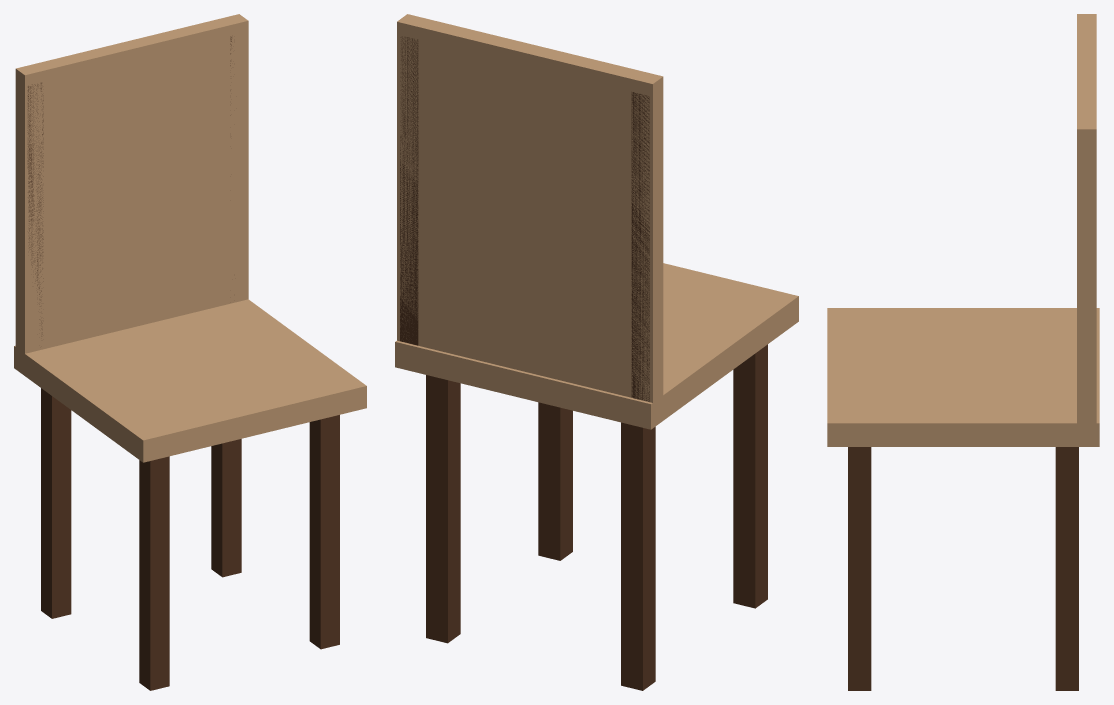
File: wooden_chair.glb
The picture shows the model from 3 angles, left to right: view 1: azimuth 30°, elevation 25°; view 2: azimuth 150°, elevation 25°; view 3: azimuth 270°, elevation 25°; orthographic projection. The views are drawn at different scales.
Visible parts, largest first — view 1: wooden_chair; view 2: wooden_chair; view 3: wooden_chair.
Part boxes in pixels (bbox=[...]): wooden_chair: bbox=[14, 14, 366, 690]; wooden_chair: bbox=[395, 14, 798, 690]; wooden_chair: bbox=[827, 14, 1099, 690].
Size of the model in its own units: 0.42 by 0.97 by 0.42.
